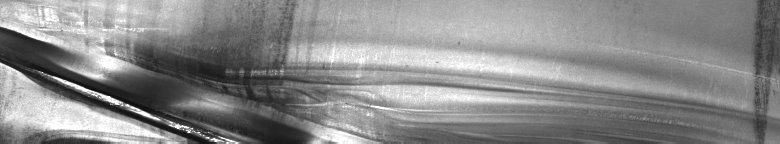ke: (4, 24, 534, 136)
